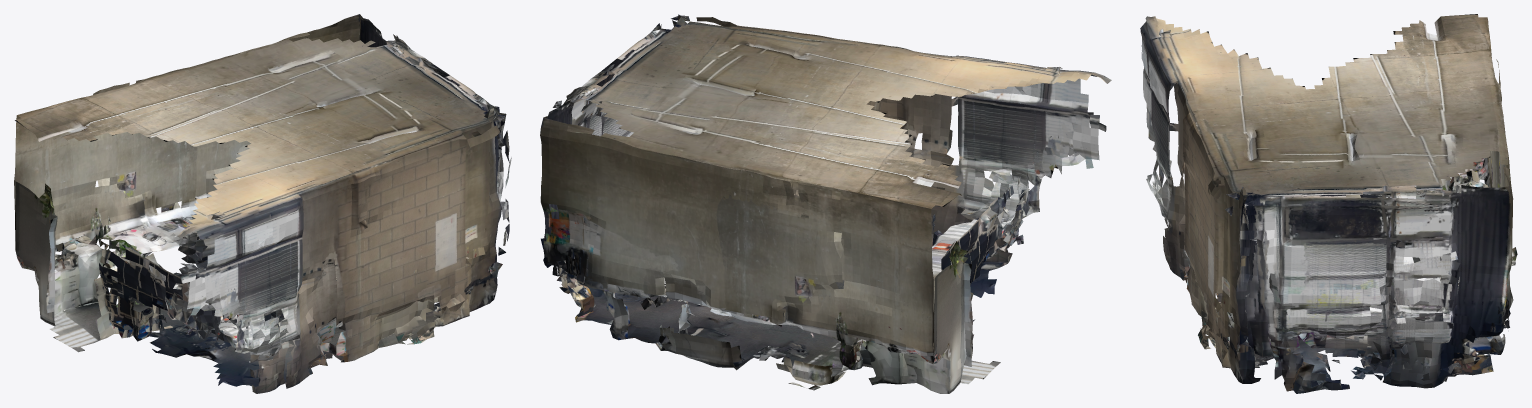
The model's file is Office_part1-IM.fbx.
The picture shows the model from 3 angles, left to right: view 1: azimuth 30°, elevation 25°; view 2: azimuth 150°, elevation 25°; view 3: azimuth 270°, elevation 25°; orthographic projection. The views are drawn at different scales.
Visible parts, largest first — view 1: Office_part1-IM; view 2: Office_part1-IM; view 3: Office_part1-IM.
Boxes of the visible parts, box(x1,y1,x2,y2) form: Office_part1-IM: box(14, 14, 511, 393); Office_part1-IM: box(540, 14, 1111, 393); Office_part1-IM: box(1140, 14, 1517, 393).
Size of the model in its own units: 696 by 341 by 559.
Materials: 1 (1 with a texture image).
